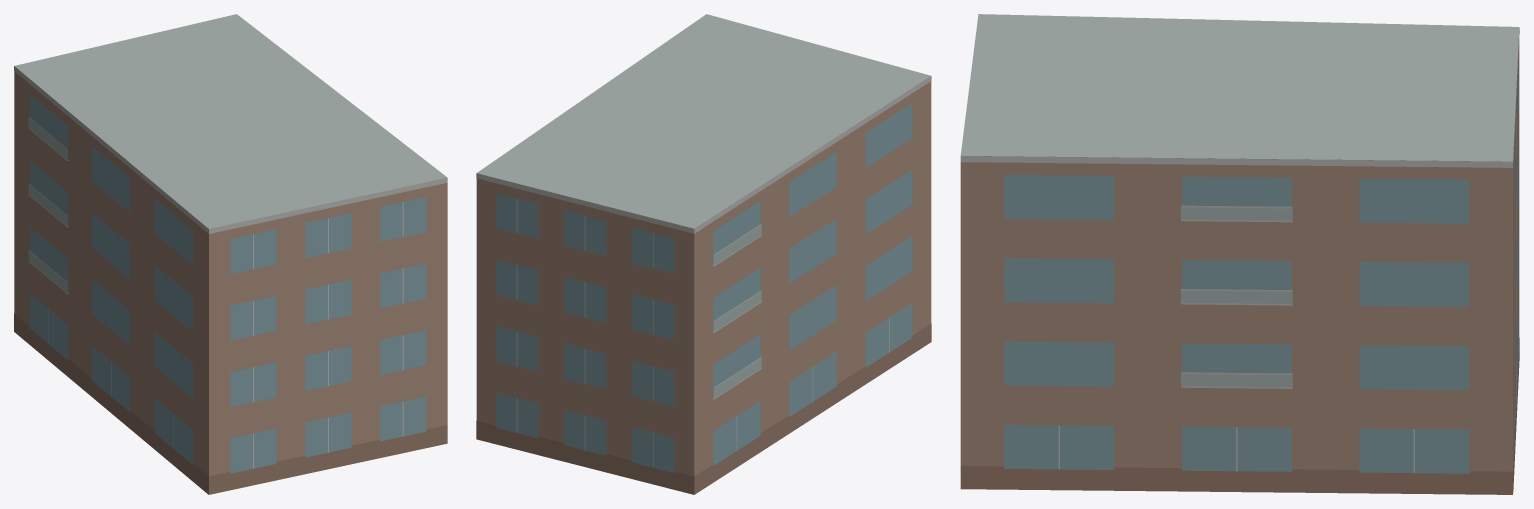
The model's file is survey-upis-32774990.glb.
3 views of the same model, side by side, from view 1: azimuth 30°, elevation 25°; view 2: azimuth 150°, elevation 25°; view 3: azimuth 270°, elevation 25° (orthographic). The views are drawn at different scales.
Parts seen in each view (by area): view 1: survey-upis-32774990.tmp; view 2: survey-upis-32774990.tmp; view 3: survey-upis-32774990.tmp.
Boxes of the visible parts, x1,y1,x2,y2 form: survey-upis-32774990.tmp: (14,14,447,494); survey-upis-32774990.tmp: (476,14,931,494); survey-upis-32774990.tmp: (960,14,1519,494).
Bounding box in the file's own units: 12.16 × 12.8 × 19.46.
